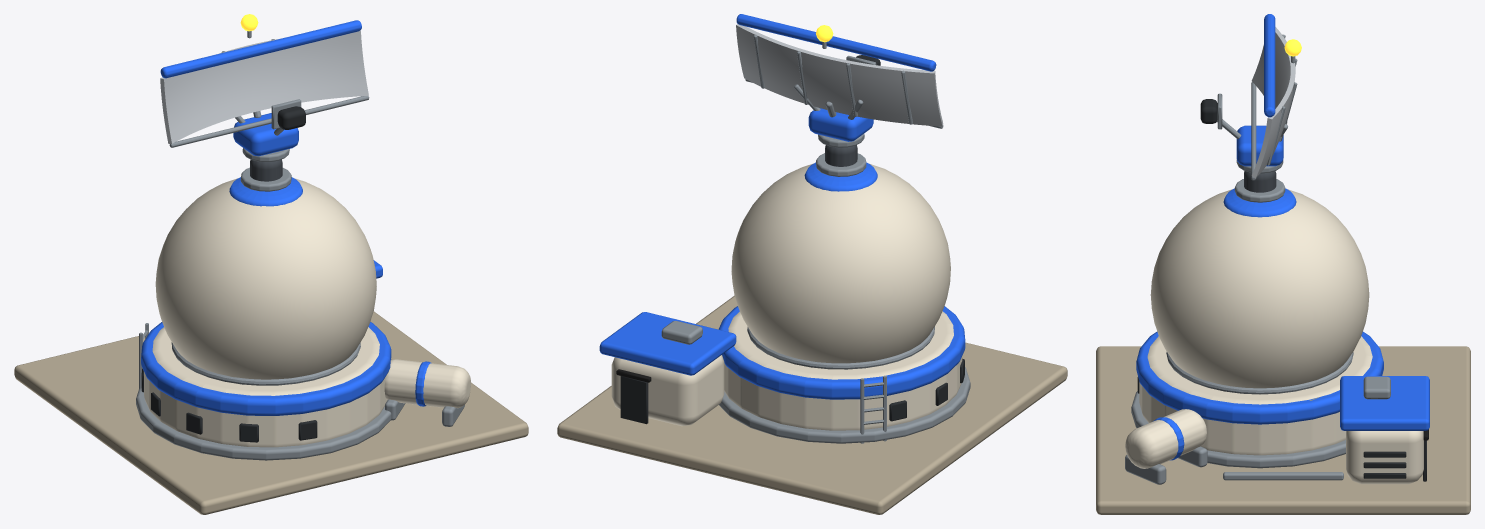
Rendered from radar_dome.glb.
The picture shows the model from 3 angles, left to right: view 1: azimuth 30°, elevation 25°; view 2: azimuth 150°, elevation 25°; view 3: azimuth 270°, elevation 25°; orthographic projection.
Parts seen in each view (by area): view 1: stage_2__M_CreamPlastic, stage_0__M_SugarPad, stage_1__M_CreamPlastic, spinner__M_Foil, stage_1__M_Team, stage_1__M_SpringSteel, spinner__M_Team, spinner__M_SpringSteel, stage_1__M_Dark, stage_3__M_Team, stage_3__M_SpringSteel, stage_3__M_SmokePlastic; view 2: stage_2__M_CreamPlastic, stage_0__M_SugarPad, stage_1__M_CreamPlastic, spinner__M_Foil, stage_1__M_SpringSteel, stage_1__M_Team, stage_2__M_Team, spinner__M_Team, stage_1__M_Dark, spinner__M_SpringSteel, stage_3__M_Team, stage_2__M_SpringSteel (+2 smaller); view 3: stage_2__M_CreamPlastic, stage_0__M_SugarPad, stage_1__M_CreamPlastic, stage_1__M_Team, stage_1__M_SpringSteel, stage_2__M_Team, spinner__M_Foil, spinner__M_Team, spinner__M_SpringSteel, stage_3__M_Team, stage_0__M_SpringSteel, stage_1__M_Dark (+3 smaller).
Part boxes in pixels (bbox=[...]): stage_2__M_CreamPlastic: bbox=[155, 178, 376, 379]; stage_0__M_SugarPad: bbox=[14, 311, 528, 514]; stage_1__M_CreamPlastic: bbox=[144, 327, 470, 447]; spinner__M_Foil: bbox=[160, 30, 368, 143]; stage_1__M_Team: bbox=[141, 322, 431, 415]; stage_1__M_SpringSteel: bbox=[136, 323, 464, 460]; spinner__M_Team: bbox=[160, 20, 361, 156]; spinner__M_SpringSteel: bbox=[169, 31, 369, 161]; stage_1__M_Dark: bbox=[141, 368, 317, 442]; stage_3__M_Team: bbox=[229, 177, 302, 206]; stage_3__M_SpringSteel: bbox=[240, 167, 291, 191]; stage_3__M_SmokePlastic: bbox=[250, 159, 282, 181]; stage_2__M_CreamPlastic: bbox=[731, 163, 950, 363]; stage_0__M_SugarPad: bbox=[557, 295, 1067, 514]; stage_1__M_CreamPlastic: bbox=[611, 311, 962, 430]; spinner__M_Foil: bbox=[736, 24, 943, 126]; stage_1__M_SpringSteel: bbox=[719, 326, 970, 443]; stage_1__M_Team: bbox=[718, 306, 965, 399]; stage_2__M_Team: bbox=[599, 312, 736, 375]; spinner__M_Team: bbox=[736, 14, 936, 141]; stage_1__M_Dark: bbox=[620, 358, 964, 424]; spinner__M_SpringSteel: bbox=[745, 34, 943, 147]; stage_3__M_Team: bbox=[804, 162, 877, 191]; stage_2__M_SpringSteel: bbox=[661, 321, 702, 344]; stage_2__M_CreamPlastic: bbox=[1150, 189, 1369, 388]; stage_0__M_SugarPad: bbox=[1096, 346, 1470, 514]; stage_1__M_CreamPlastic: bbox=[1125, 336, 1423, 484]; stage_1__M_Team: bbox=[1136, 331, 1383, 460]; stage_1__M_SpringSteel: bbox=[1125, 352, 1353, 484]; stage_2__M_Team: bbox=[1340, 376, 1429, 430]; spinner__M_Foil: bbox=[1251, 27, 1295, 177]; spinner__M_Team: bbox=[1236, 14, 1283, 166]; spinner__M_SpringSteel: bbox=[1216, 34, 1297, 180]; stage_3__M_Team: bbox=[1223, 188, 1296, 217]; stage_0__M_SpringSteel: bbox=[1223, 472, 1343, 480]; stage_1__M_Dark: bbox=[1137, 377, 1426, 481].
Bounding box in the file's own units: 1.92 × 2.2 × 1.92.
